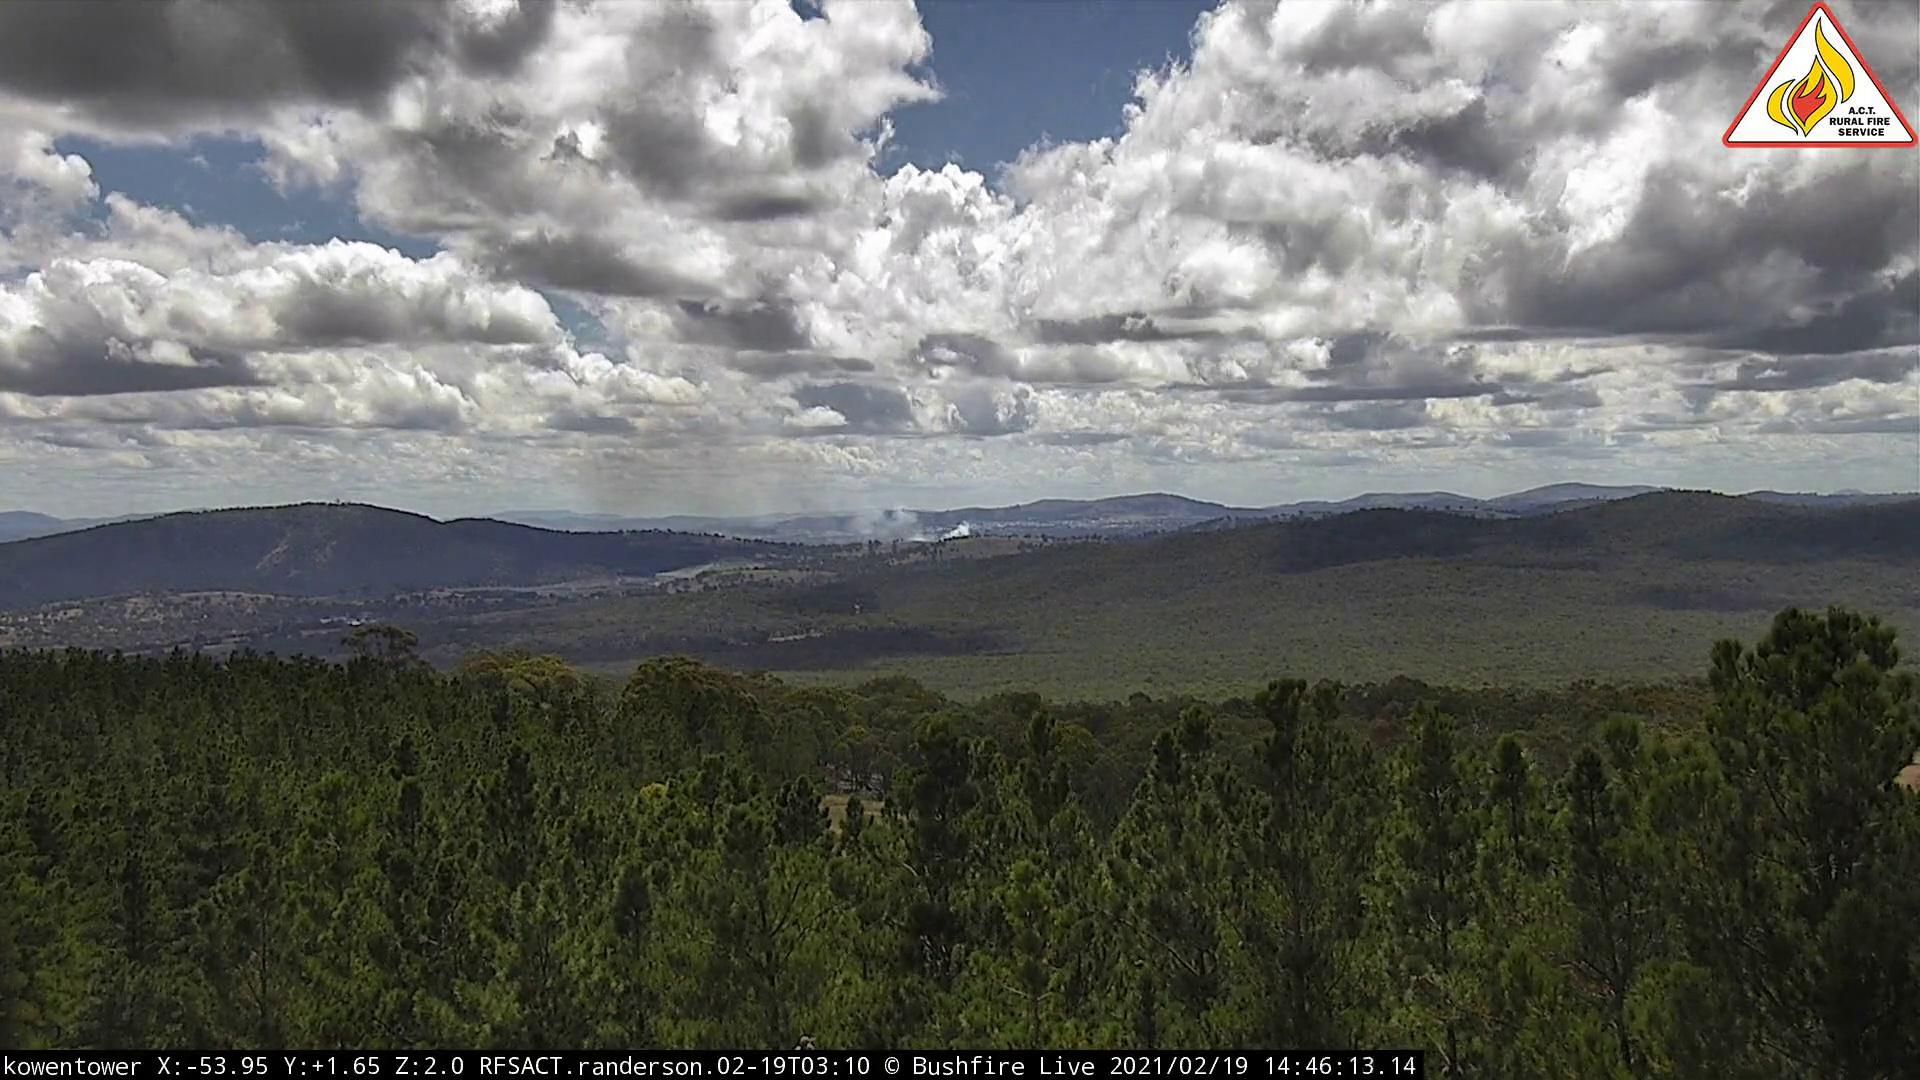Smoke: (560, 411, 981, 547)
